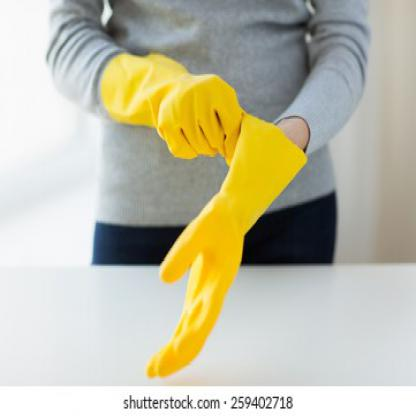with_gloves: (146, 114, 308, 376), (101, 52, 241, 166)
